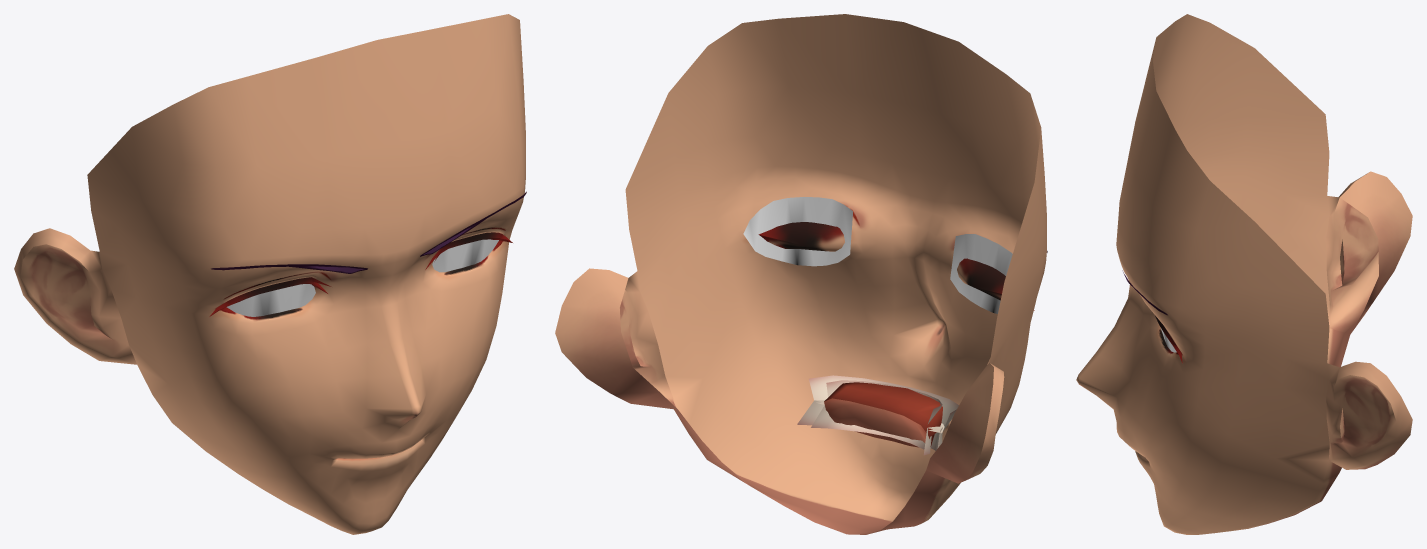
Rendered from Adonis.fbx.
The picture shows the model from 3 angles, left to right: view 1: azimuth 30°, elevation 25°; view 2: azimuth 150°, elevation 25°; view 3: azimuth 270°, elevation 25°; orthographic projection. The views are drawn at different scales.
Parts seen in each view (by area): view 1: M_Head, M_Eye_B_Def, M_Mth_B_Def, M_PupALL_R_A_Def, M_PupALL_L_A_Def, M_Brw_B_Def; view 2: M_Head, M_Eye_B_Def, M_Mth_B_Def, M_PupALL_L_A_Def, M_PupALL_R_A_Def; view 3: M_Head, M_Eye_B_Def, M_Mth_B_Def.
Part boxes in pixels (box(x1,y1,x2,y2)): M_Head: box(14, 14, 525, 401); M_Eye_B_Def: box(139, 137, 525, 417); M_Mth_B_Def: box(137, 361, 485, 534); M_PupALL_R_A_Def: box(226, 284, 315, 316); M_PupALL_L_A_Def: box(432, 239, 498, 272); M_Brw_B_Def: box(211, 191, 526, 273); M_Head: box(555, 14, 1046, 483); M_Eye_B_Def: box(675, 137, 1046, 423); M_Mth_B_Def: box(673, 323, 1009, 534); M_PupALL_L_A_Def: box(743, 197, 852, 266); M_PupALL_R_A_Def: box(950, 234, 1012, 313); M_Head: box(1118, 14, 1412, 469); M_Eye_B_Def: box(1076, 116, 1247, 455); M_Mth_B_Def: box(1077, 328, 1349, 534).
Size of the model in its own units: 0.1625 by 0.1727 by 0.1118.
Materials: 5 (3 with a texture image).
